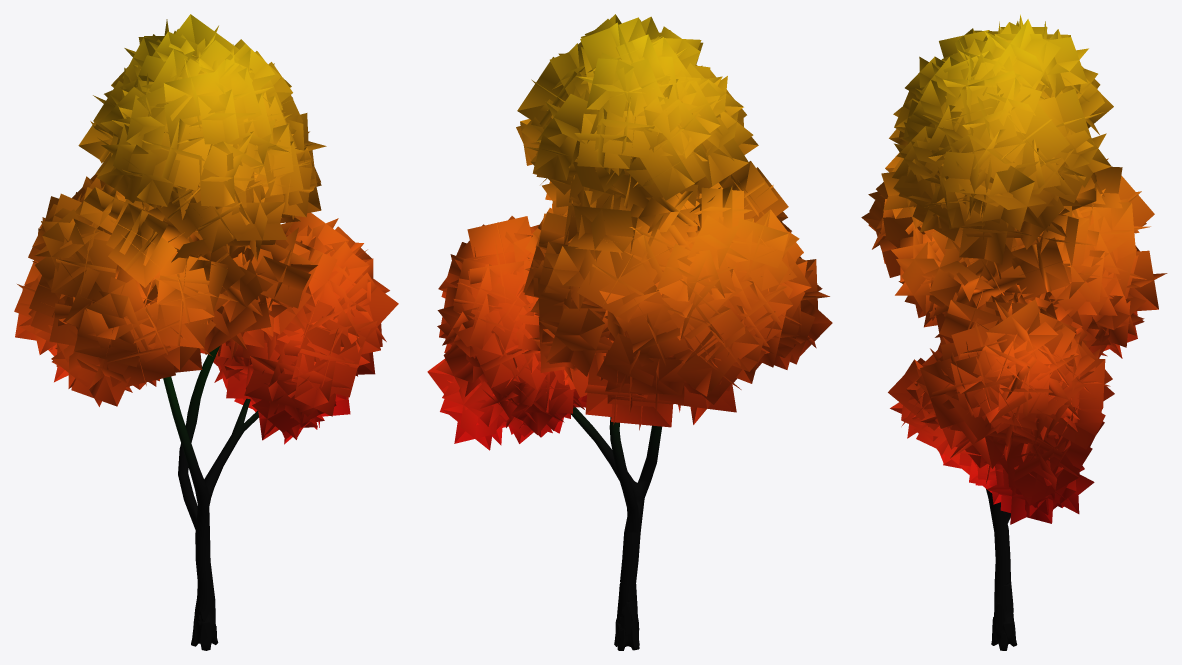
File: TGV_Birch_Tree_03A.fbx
3 views of the same model, side by side, from view 1: azimuth 30°, elevation 25°; view 2: azimuth 150°, elevation 25°; view 3: azimuth 270°, elevation 25° (orthographic).
Parts seen in each view (by area): view 1: TGV_Birch_Tree_03A_LOD0; view 2: TGV_Birch_Tree_03A_LOD0; view 3: TGV_Birch_Tree_03A_LOD0.
Boxes of the visible parts, box(x1,y1,x2,y2) form: TGV_Birch_Tree_03A_LOD0: box(14, 14, 398, 650); TGV_Birch_Tree_03A_LOD0: box(427, 14, 832, 650); TGV_Birch_Tree_03A_LOD0: box(861, 14, 1167, 650).
Size of the model in its own units: 939 by 1666 by 739.
